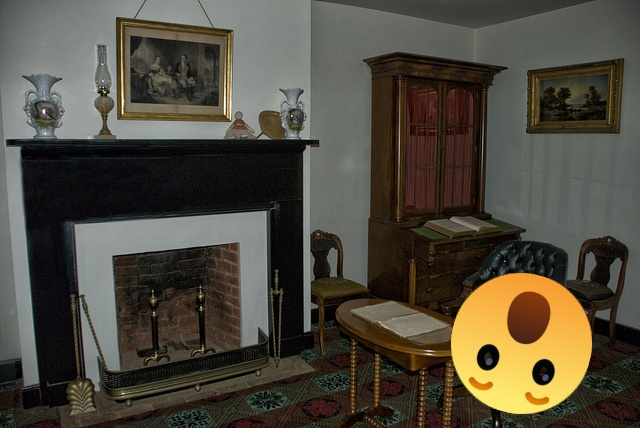wow: (451, 273, 592, 414)
